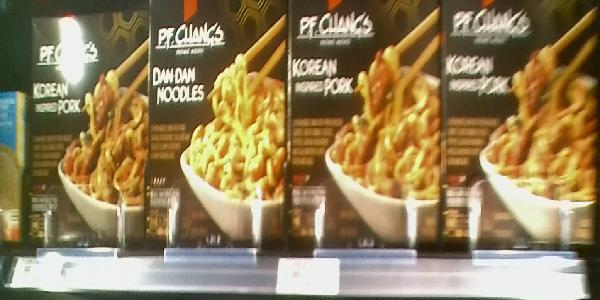pizza1: (287, 1, 443, 248), (444, 1, 600, 247), (148, 1, 285, 251), (29, 11, 145, 251)
